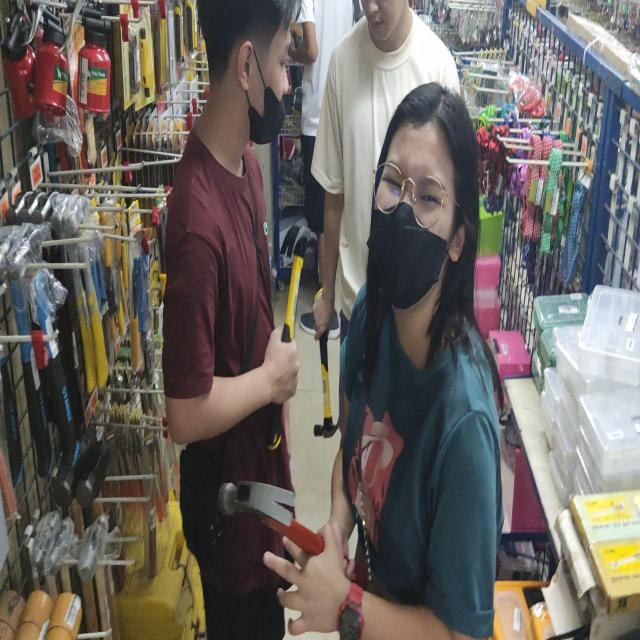hammer: (218, 478, 366, 591), (266, 226, 317, 454), (314, 331, 336, 438)
